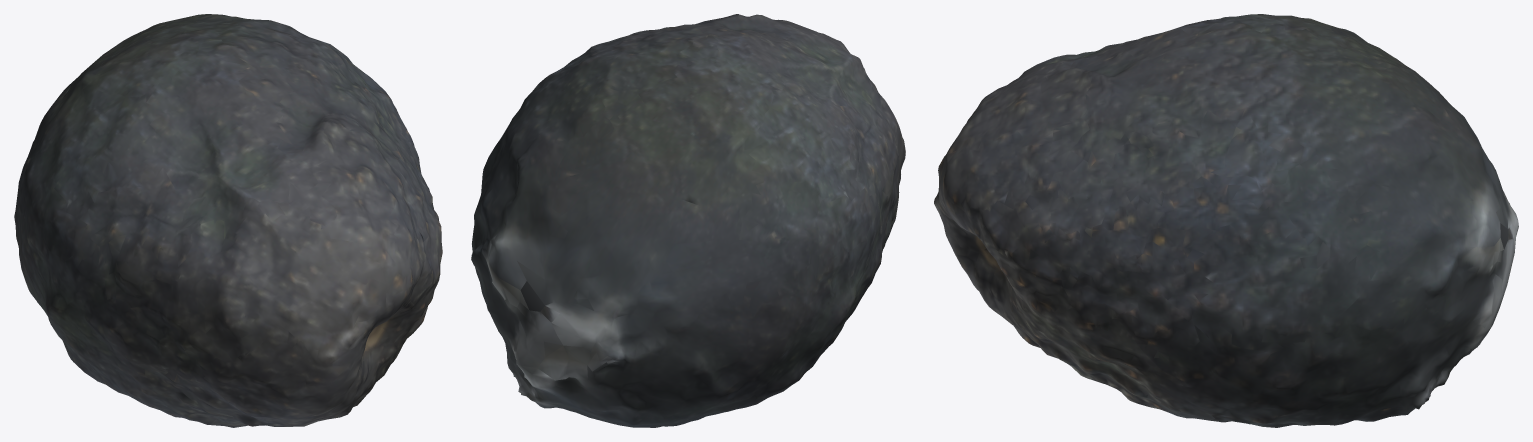
Rendered from avocado_ar2.obj.
3 renders of one model, left to right at view 1: azimuth 30°, elevation 25°; view 2: azimuth 150°, elevation 25°; view 3: azimuth 270°, elevation 25°, orthographic. The views are drawn at different scales.
Visible parts, largest first — view 1: avocado; view 2: avocado; view 3: avocado.
Part boxes in pixels (x1=…): avocado: x1=14, y1=14, x2=442, y2=427; avocado: x1=471, y1=14, x2=905, y2=427; avocado: x1=934, y1=14, x2=1518, y2=427.
Bounding box in the file's own units: 2857 × 2805 × 3965.
